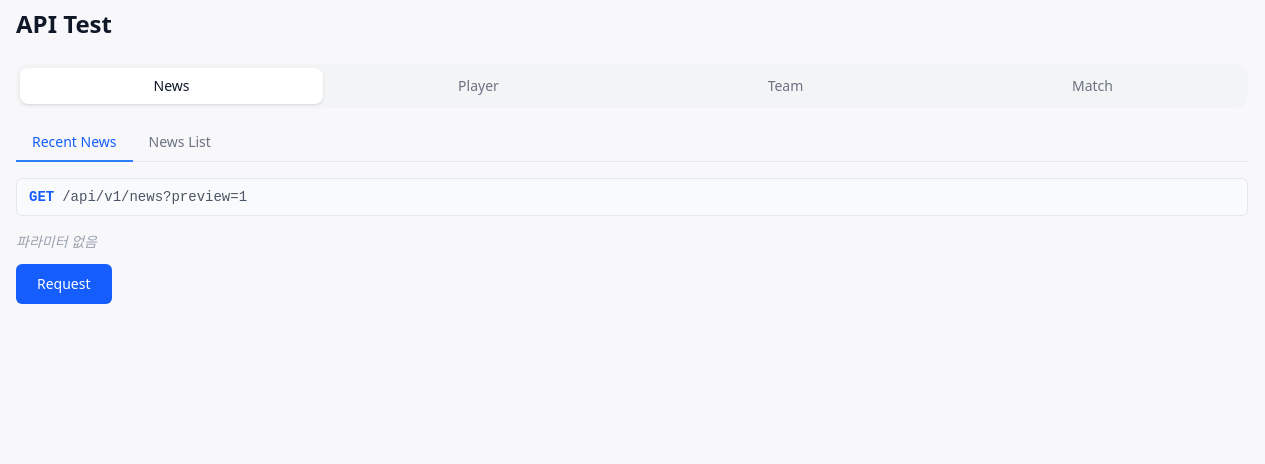
Test: TestApi 페이지 (통합) › fetch 스텁 응답이 화면에 렌더된다 (fetch → Response → UI 전체 경로)
Note: 기본 선택: Recent News (파라미터 없음) — 바로 Request 클릭
Click the button "Request": click(64, 284) 16,264 -> 112,304
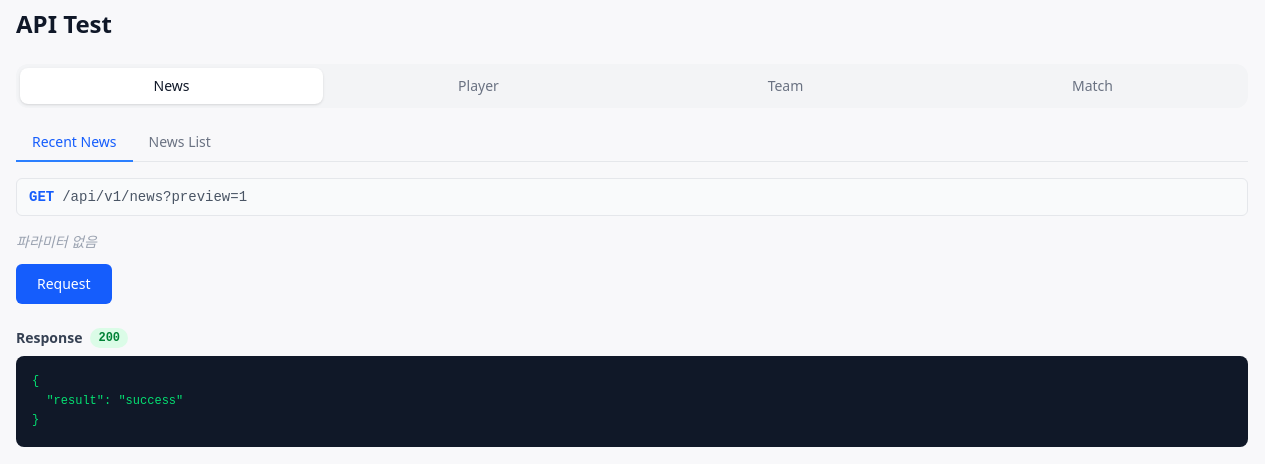
Expected: the text "Response" is shown, 16,328 -> 82,348
Expected: the text "\"result\"" is shown, 32,374 -> 183,427
Expected: the text "\"success\"" is shown, 32,374 -> 183,427
